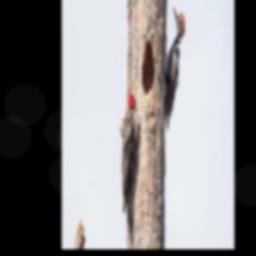Woodpecker: (164, 4, 185, 130), (121, 93, 137, 248)
